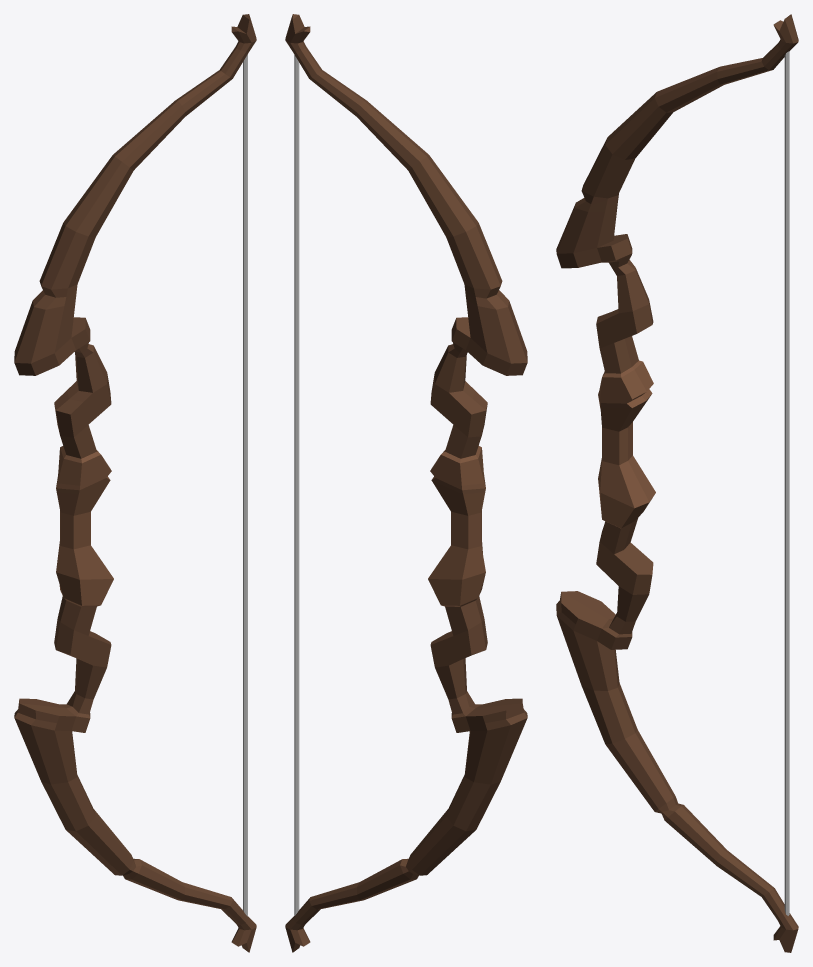
Rendered from armory-ranger-0.glb.
3 renders of one model, left to right at view 1: azimuth 30°, elevation 25°; view 2: azimuth 150°, elevation 25°; view 3: azimuth 330°, elevation 25°, orthographic.
Parts seen in each view (by area): view 1: Bow_Wooden_Cylinder.014; view 2: Bow_Wooden_Cylinder.014; view 3: Bow_Wooden_Cylinder.014.
Boxes of the visible parts, x1,y1,x2,y2 form: Bow_Wooden_Cylinder.014: [14, 14, 256, 952]; Bow_Wooden_Cylinder.014: [285, 14, 527, 952]; Bow_Wooden_Cylinder.014: [556, 14, 798, 952].
Bounding box in the file's own units: 1.47 × 5.44 × 0.2434.
